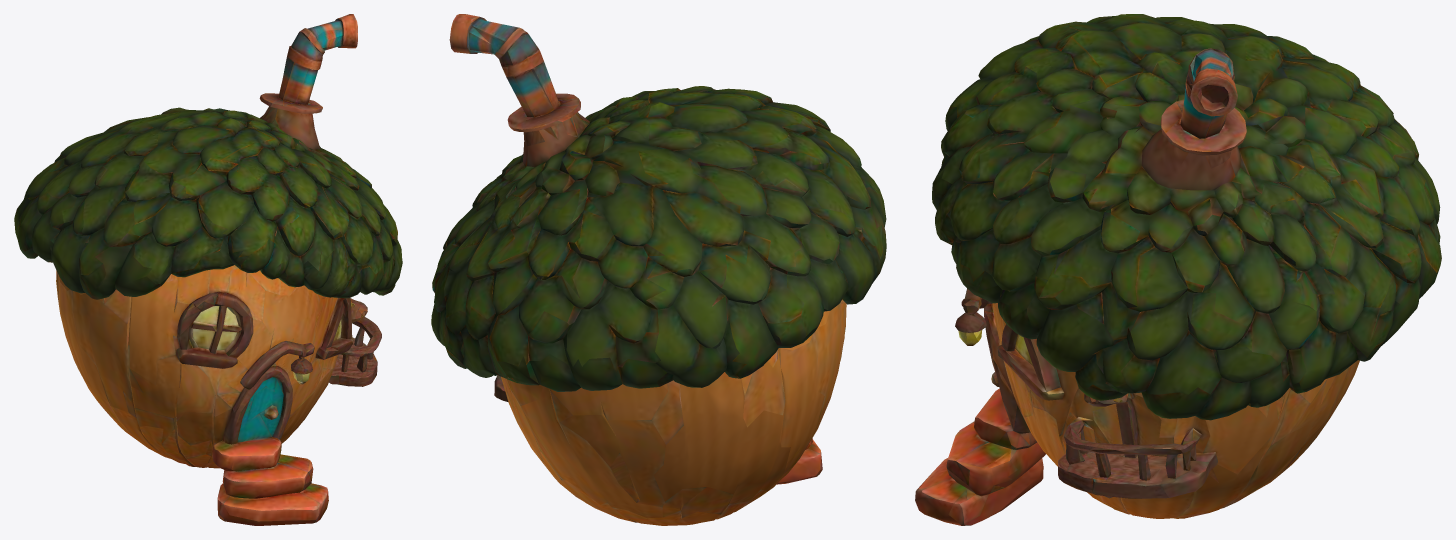
File: acorn-cottage.glb
The picture shows the model from 3 angles, left to right: view 1: azimuth 30°, elevation 25°; view 2: azimuth 150°, elevation 25°; view 3: azimuth 270°, elevation 25°; orthographic projection. The views are drawn at different scales.
Parts seen in each view (by area): view 1: output_unwrapped; view 2: output_unwrapped; view 3: output_unwrapped.
Boxes of the visible parts, <box> form: output_unwrapped: <box>14,14,402,525</box>; output_unwrapped: <box>431,14,886,525</box>; output_unwrapped: <box>915,14,1441,525</box>.
Bounding box in the file's own units: 1.66 × 1.9 × 1.7.
Materials: 1 (1 with a texture image).
